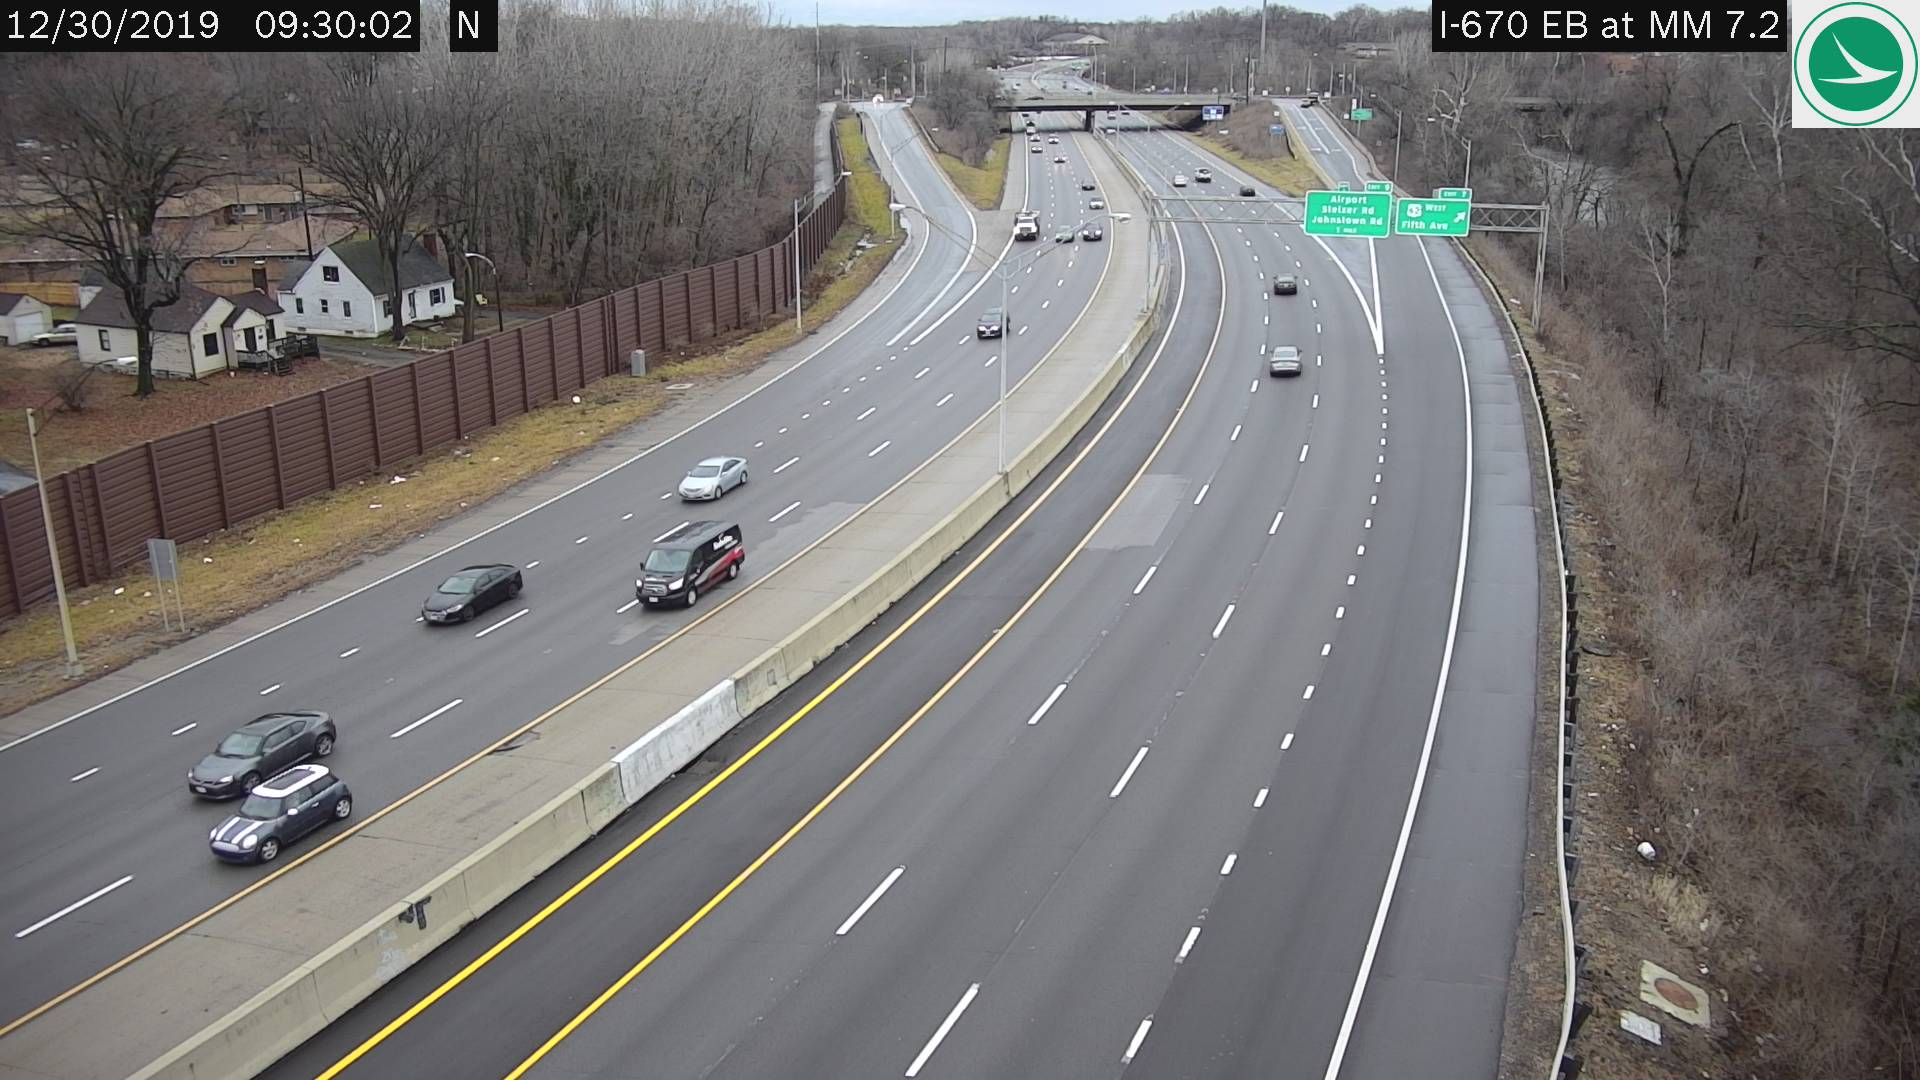car: (186, 708, 334, 804), (206, 764, 349, 860), (638, 516, 742, 612), (422, 564, 522, 628), (674, 456, 746, 496), (1270, 344, 1302, 376), (978, 309, 1010, 336), (1010, 208, 1042, 236), (1274, 272, 1294, 295), (1081, 222, 1101, 240), (1058, 224, 1073, 243), (1193, 167, 1211, 182), (1081, 175, 1095, 190), (1089, 196, 1105, 208), (1240, 185, 1255, 196), (1174, 174, 1187, 186), (1054, 150, 1065, 160)
